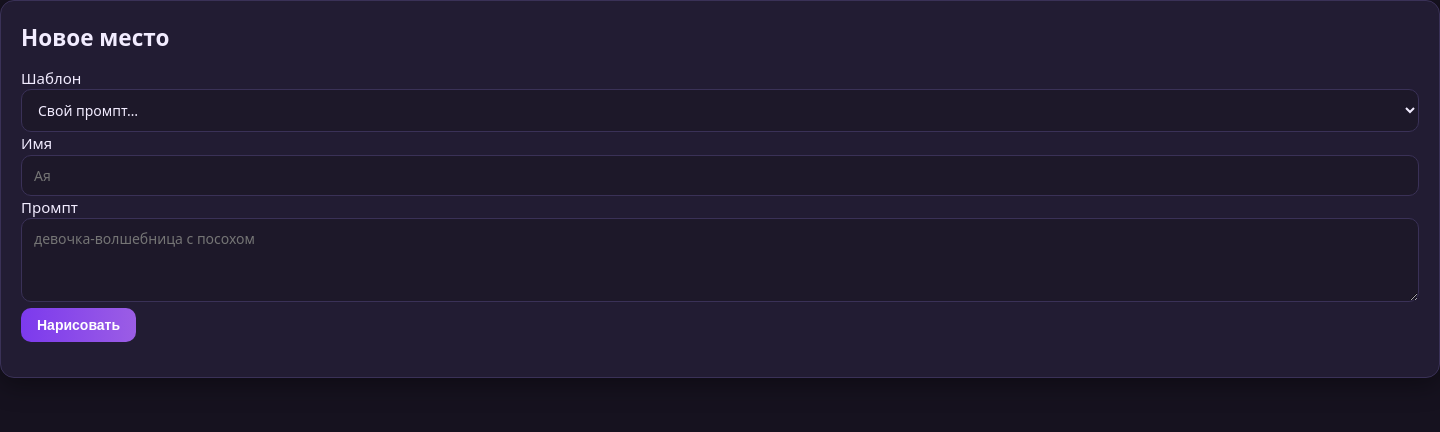
Test: EntityGenerator (new character/item/location by prompt) › shows honest error when Ollama fails
Type "Храм" into the field labelled "Имя".
click(720, 175); type("Храм")  # box [21,155,1419,196]
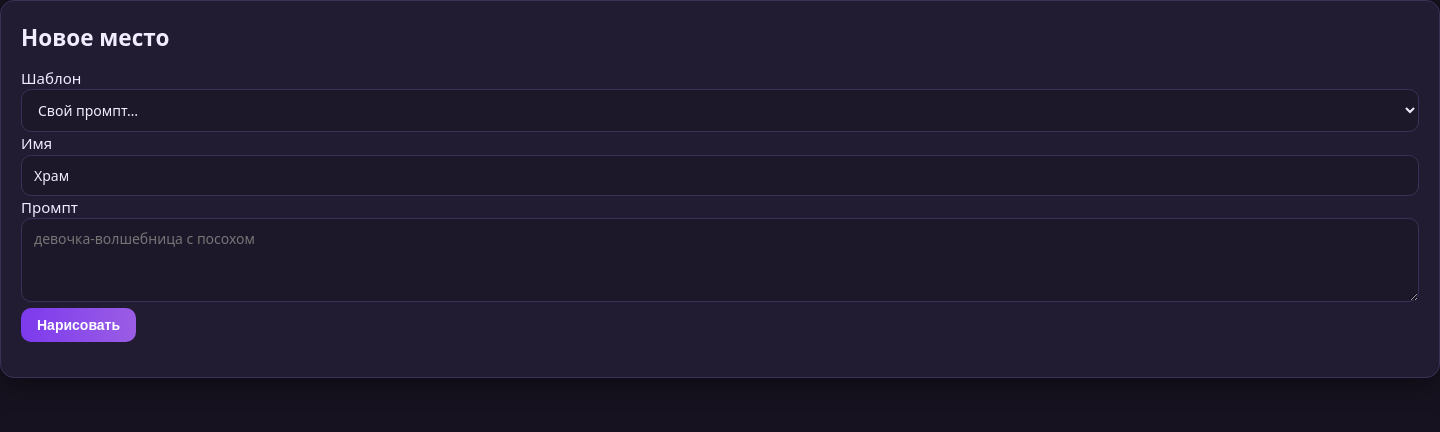
Type "храм" into the text box labelled "Промпт".
click(720, 260); type("храм")  # box [21,218,1419,302]
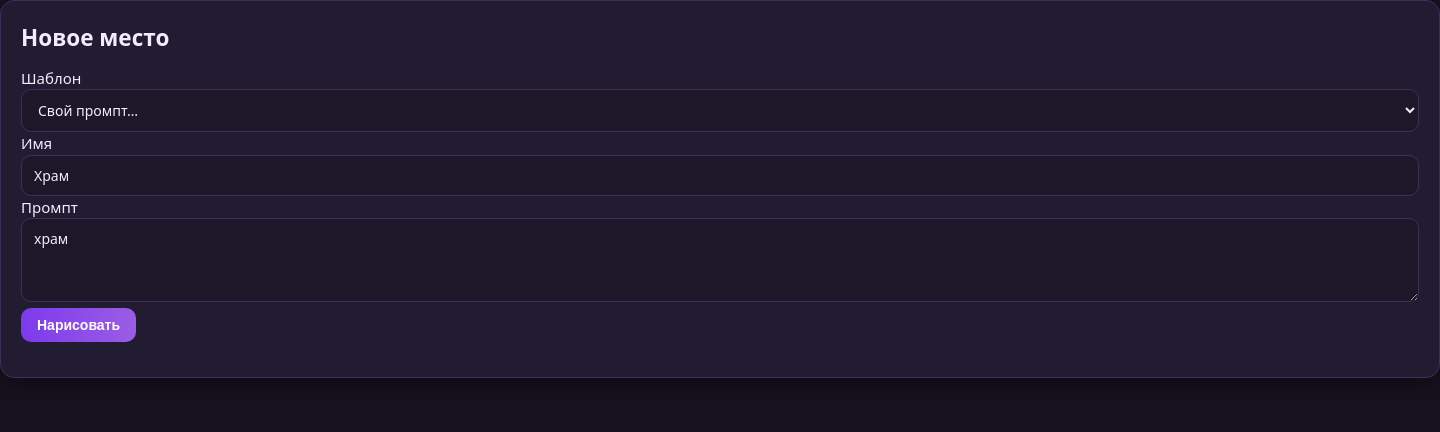
Click the button "Нарисовать".
click(79, 325)  # box [21,308,136,342]
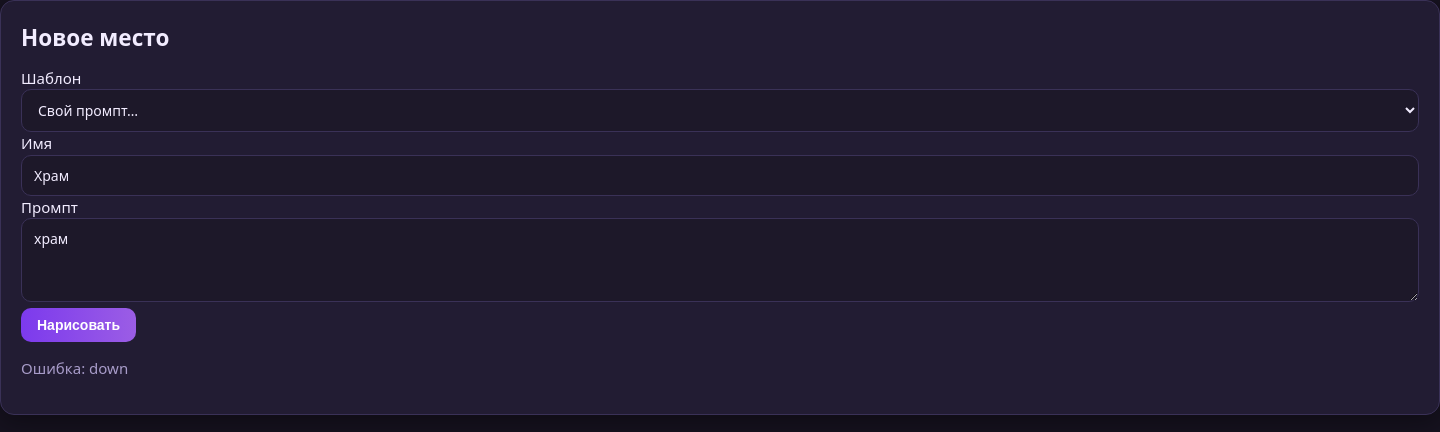
Expected: the text "Ошибка: down" is shown, [21,358,128,378]
